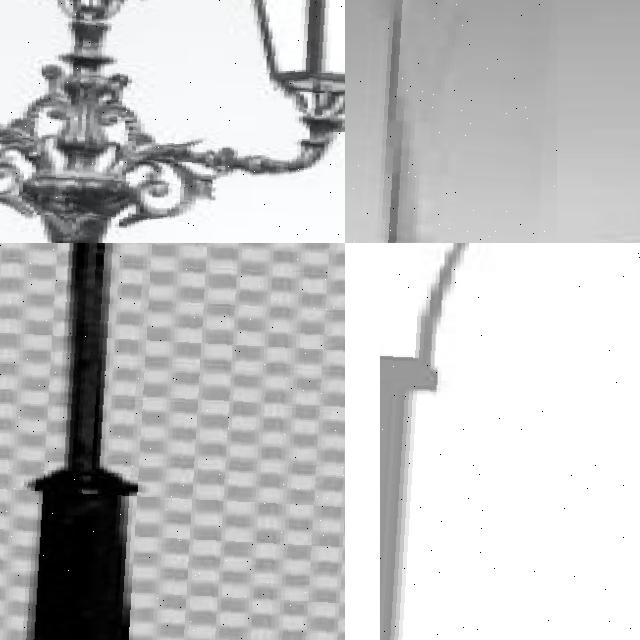street light: (0, 243, 345, 640), (380, 243, 640, 640), (0, 0, 345, 243), (345, 0, 557, 243)
